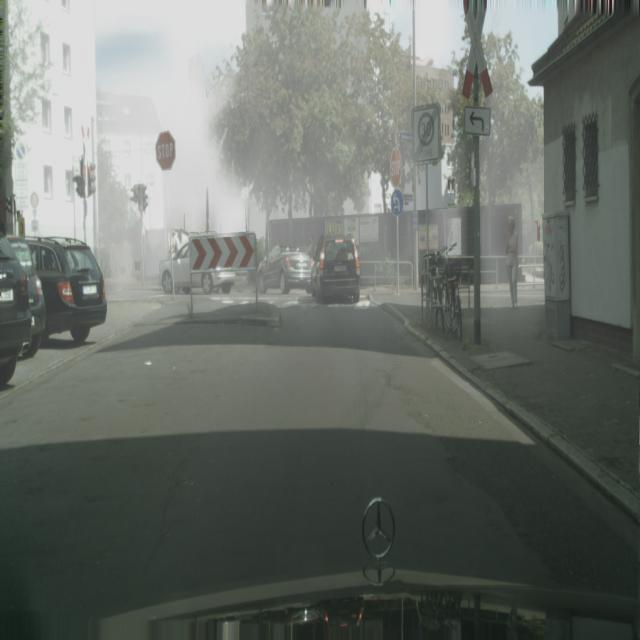bus: (505, 218, 518, 309)
person: (9, 235, 108, 347), (0, 233, 32, 386), (8, 238, 47, 361), (160, 238, 239, 296), (311, 236, 361, 304), (257, 242, 312, 295)
truck: (442, 255, 462, 339)
